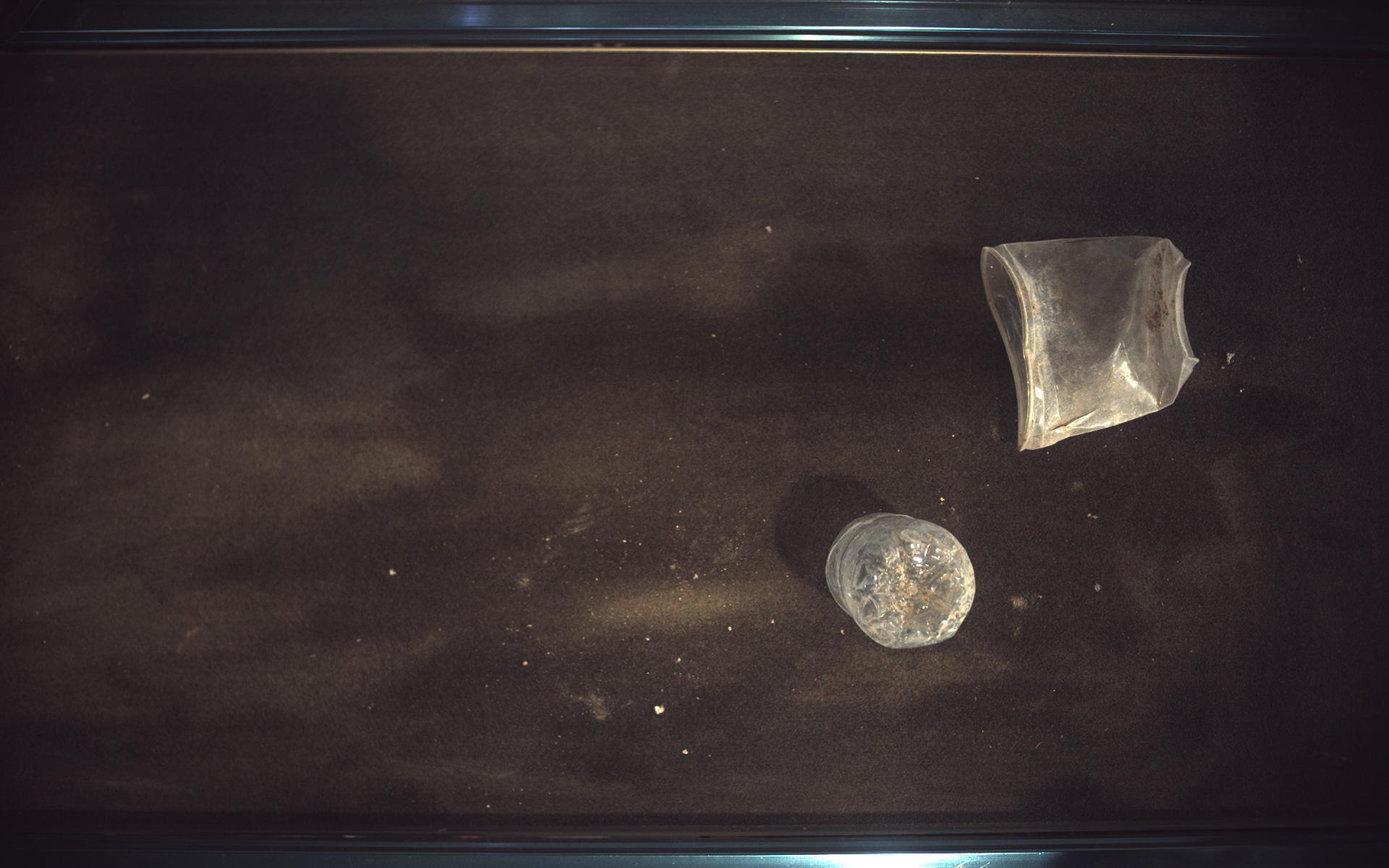general_w: (828, 514, 977, 650)
